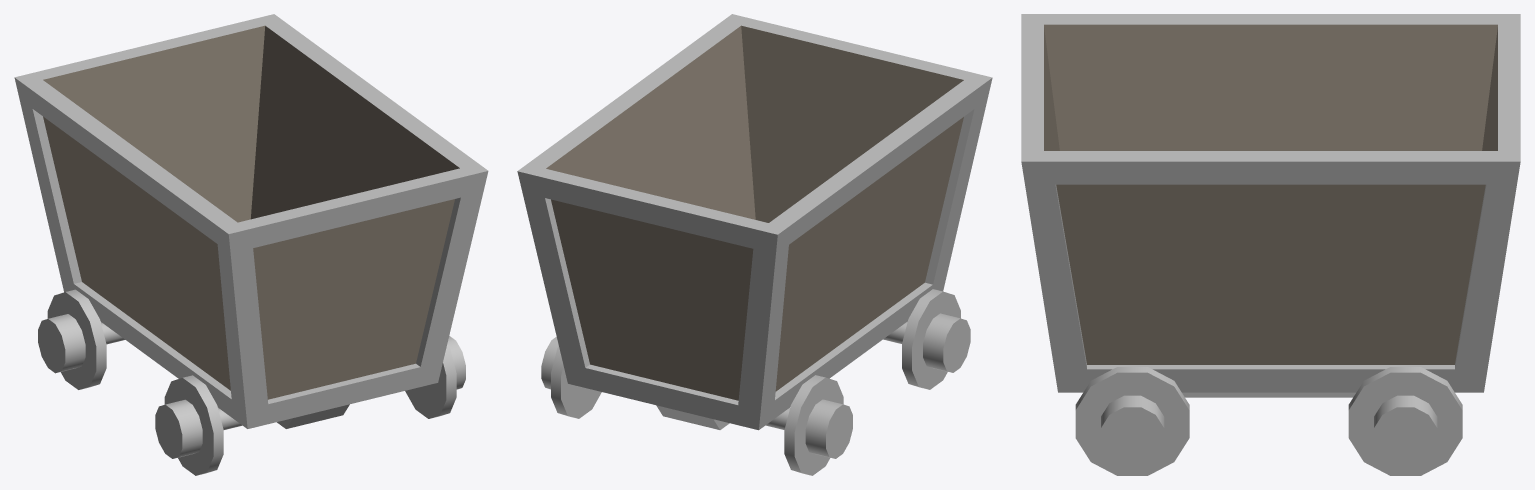
File: cave_minecart.glb
3 renders of one model, left to right at view 1: azimuth 30°, elevation 25°; view 2: azimuth 150°, elevation 25°; view 3: azimuth 270°, elevation 25°, orthographic. The views are drawn at different scales.
Parts seen in each view (by area): view 1: MineCart; view 2: MineCart; view 3: MineCart.
Part boxes in pixels (bbox=[...]): MineCart: bbox=[14, 14, 488, 475]; MineCart: bbox=[517, 14, 992, 475]; MineCart: bbox=[1021, 14, 1520, 475].
Bounding box in the file's own units: 0.6988 × 0.6448 × 0.9143.
